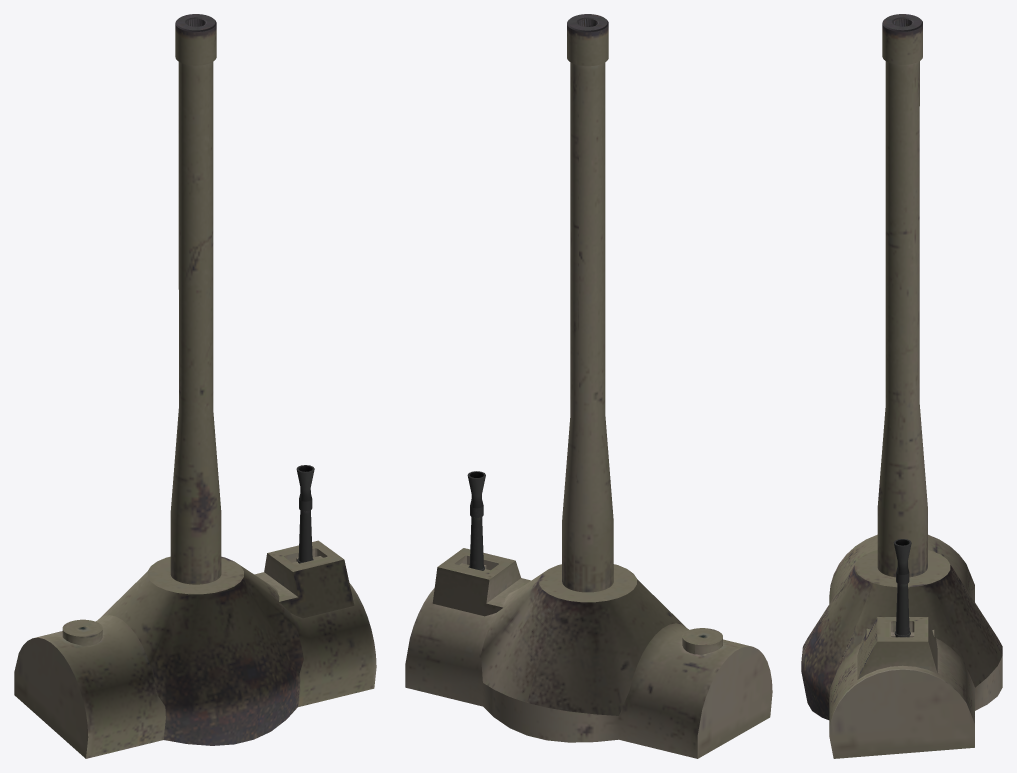
Rendered from Gun_01.glb.
3 renders of one model, left to right at view 1: azimuth 30°, elevation 25°; view 2: azimuth 150°, elevation 25°; view 3: azimuth 270°, elevation 25°, orthographic. The views are drawn at different scales.
Visible parts, largest first — view 1: set_0_group_0; view 2: set_0_group_0; view 3: set_0_group_0.
Boxes of the visible parts, x1,y1,x2,y2 form: set_0_group_0: (14, 14, 376, 758); set_0_group_0: (405, 14, 772, 758); set_0_group_0: (801, 14, 1002, 758).
Size of the model in its own units: 0.6842 by 1.55 by 0.4185.
1 material, 1 textured.
